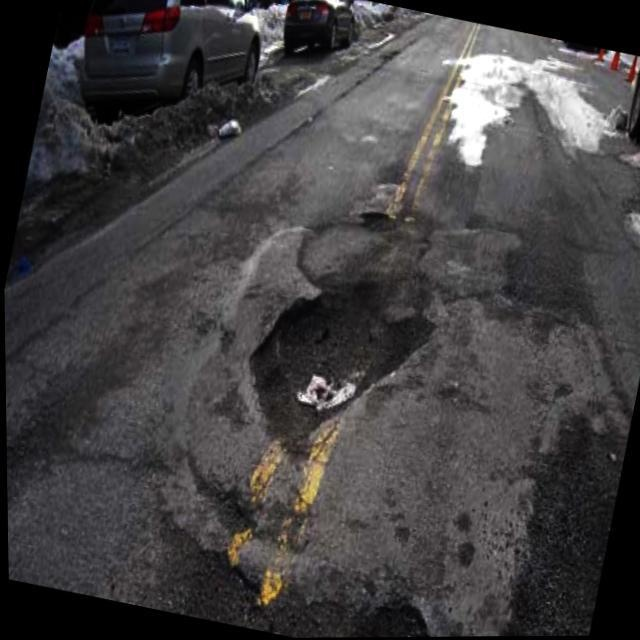pothole: (258, 278, 431, 459)
